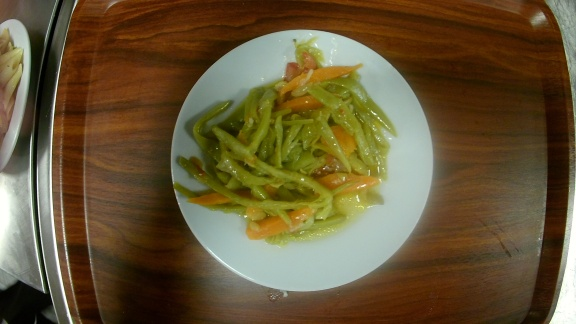tazefasulye: (169, 30, 436, 293)
